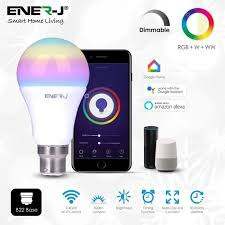bulb: (15, 35, 91, 148)
